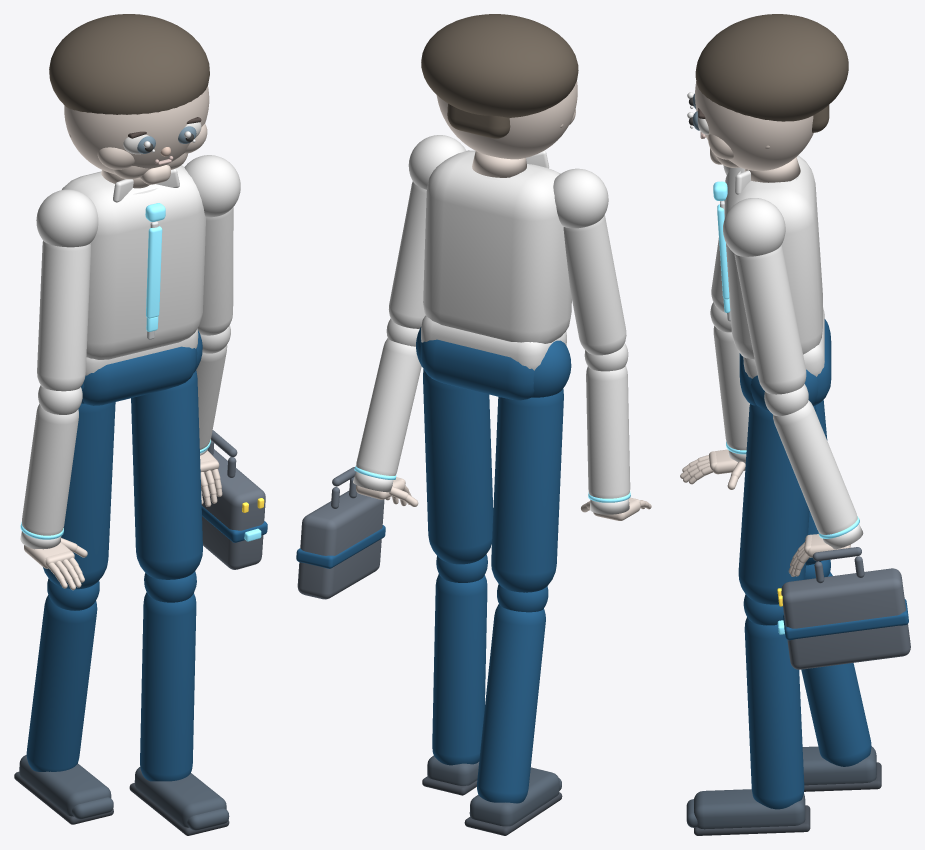
Rendered from walker.glb.
3 views of the same model, side by side, from view 1: azimuth 30°, elevation 25°; view 2: azimuth 150°, elevation 25°; view 3: azimuth 270°, elevation 25° (orthographic). The views are drawn at different scales.
Visible parts, largest first — view 1: Shirt, Hair, UpperLeg_R, LowerLeg_R, LowerLeg_L, UpperArm_L, UpperLeg_L, Head, ForeArm_L, Case, Pelvis, UpperArm_R (+19 smaller); view 2: Shirt, Hair, UpperLeg_L, UpperLeg_R, LowerLeg_L, LowerLeg_R, Case, UpperArm_L, ForeArm_R, ForeArm_L, Pelvis, Head (+14 smaller); view 3: Hair, UpperLeg_R, Case, LowerLeg_R, Shirt, UpperArm_R, ForeArm_R, LowerLeg_L, Head, Foot_R, Shoulder_R, ForeArm_L (+15 smaller).
Part boxes in pixels (box(x1,y1,x2,y2)): Shirt: box(62, 165, 205, 359); Hair: box(49, 14, 209, 114); UpperLeg_R: box(131, 370, 202, 579); LowerLeg_R: box(140, 592, 196, 781); LowerLeg_L: box(26, 595, 97, 771); UpperArm_L: box(37, 241, 90, 391); UpperLeg_L: box(43, 402, 115, 589); Head: box(64, 86, 209, 174); ForeArm_L: box(22, 404, 78, 535); Case: box(201, 449, 265, 569); Pelvis: box(82, 346, 197, 405); UpperArm_R: box(197, 207, 233, 335); Shirt: box(423, 150, 571, 343); Hair: box(421, 14, 578, 117); UpperLeg_L: box(491, 389, 563, 592); UpperLeg_R: box(423, 369, 493, 564); LowerLeg_L: box(477, 604, 545, 803); LowerLeg_R: box(432, 574, 487, 765); Case: box(297, 491, 384, 599); UpperArm_L: box(563, 215, 626, 355); ForeArm_R: box(356, 338, 421, 475); ForeArm_L: box(586, 366, 630, 498); Pelvis: box(420, 339, 534, 400); Head: box(436, 81, 577, 159); Hair: box(695, 14, 848, 121); UpperLeg_R: box(738, 404, 816, 604); Case: box(781, 568, 910, 669); LowerLeg_R: box(744, 617, 804, 809); Shirt: box(724, 155, 822, 359); UpperArm_R: box(734, 245, 806, 394); ForeArm_R: box(773, 400, 857, 534); LowerLeg_L: box(801, 572, 871, 766); Head: box(695, 81, 813, 170); Foot_R: box(694, 789, 805, 829); Shoulder_R: box(723, 198, 785, 256); ForeArm_L: box(713, 326, 749, 450).
Bounding box in the file's own units: 0.5994 × 1.7 × 0.4555.
